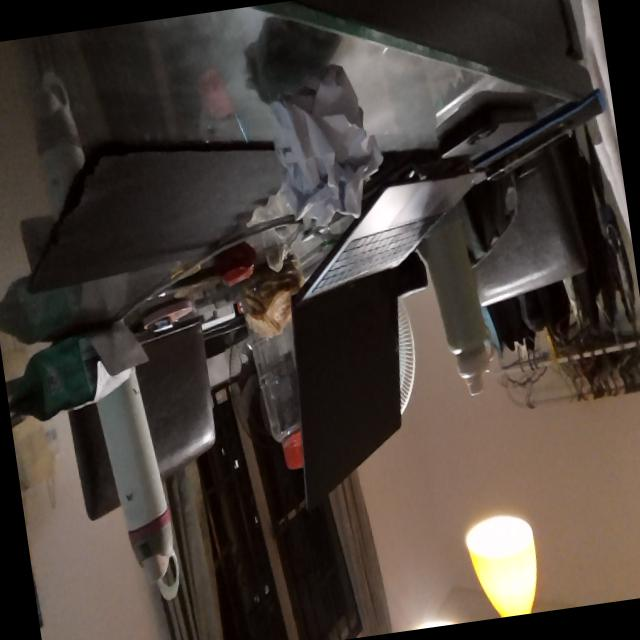crumpled_paper: (241, 54, 394, 240)
